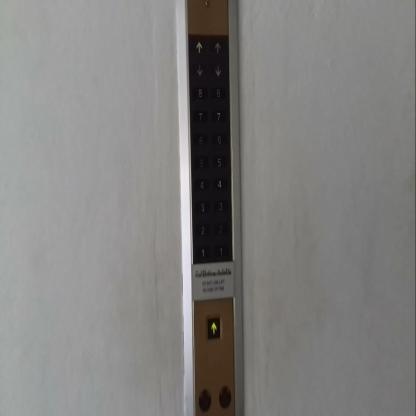1: (195, 244, 212, 258), (213, 244, 229, 258)
2: (194, 223, 211, 237), (212, 223, 228, 236)
3: (194, 200, 210, 213), (212, 200, 228, 213)
4: (193, 177, 210, 191), (211, 177, 228, 191)
5: (193, 155, 210, 168), (211, 155, 228, 168)
6: (192, 133, 209, 146), (210, 133, 227, 146)
7: (192, 108, 208, 124), (210, 108, 226, 124)
8: (192, 85, 208, 100), (210, 85, 226, 100)
down: (191, 61, 207, 77), (209, 62, 226, 77)
empty: (218, 385, 232, 409), (198, 388, 211, 412)
up: (206, 314, 222, 340), (209, 39, 226, 54), (191, 39, 207, 54)
